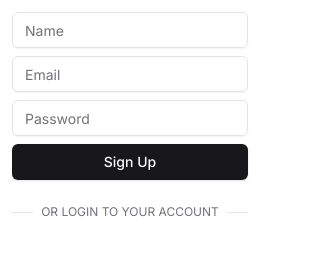
Test: SignupForm › Displays error message on form submission failure
Type "John Doe" into the field with placeholder "Name" at (130, 30), box [12, 12, 248, 48]
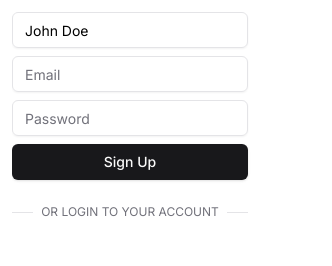
Type "john.doe@example.com" into the field with placeholder "Email" at (130, 74), box [12, 56, 248, 92]
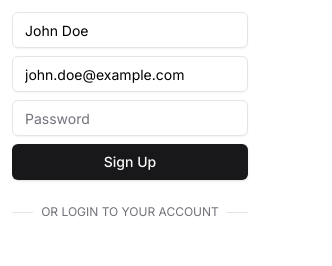
Type "password123" into the password field with placeholder "Password" at (130, 118), box [12, 100, 248, 136]
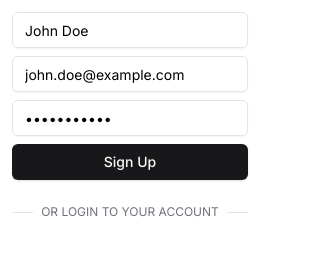
Click the button "Sign Up" at (130, 162), box [12, 144, 248, 180]
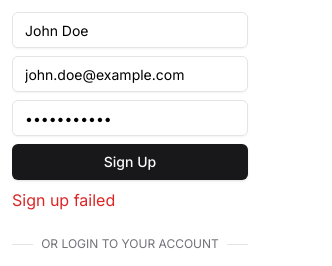
Result: the text "Sign up failed" is shown at [12, 190, 115, 210]
